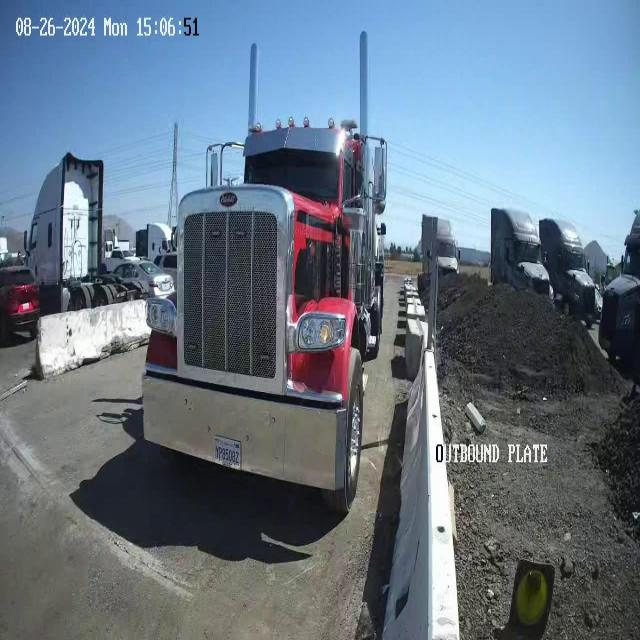TRUCK_OUT: (140, 29, 388, 516)
